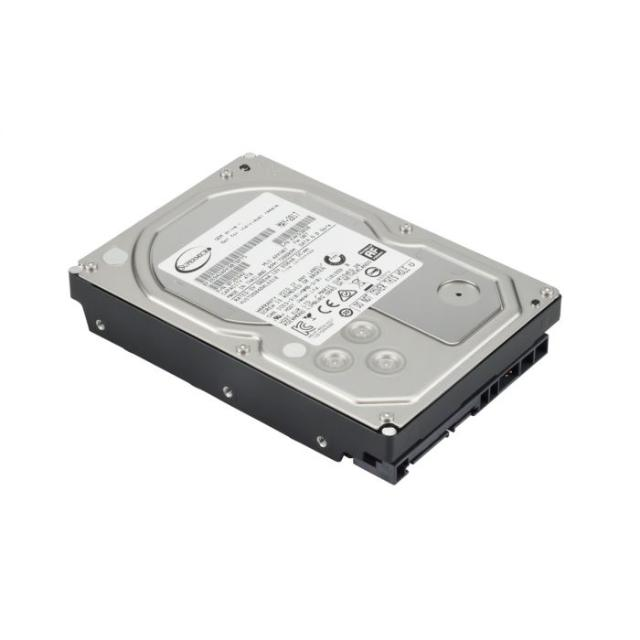HDD: (68, 153, 562, 486)
